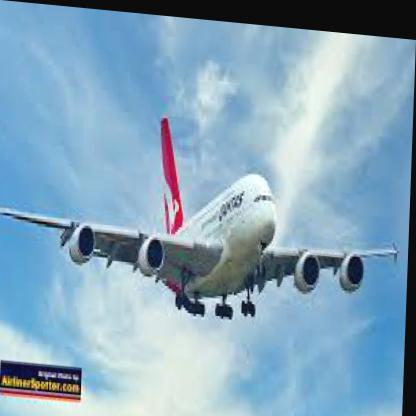Aircraft: (0, 101, 402, 328)
